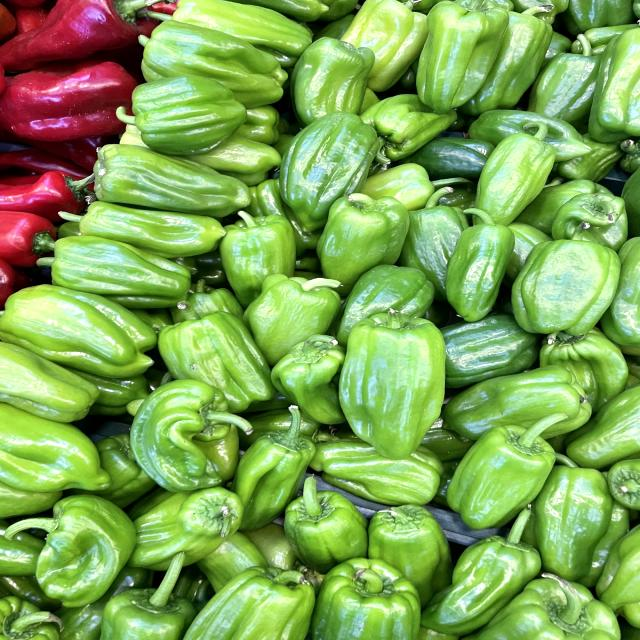bell pepper: (342, 299, 454, 462), (504, 207, 624, 347), (442, 413, 578, 531), (81, 135, 262, 221), (313, 178, 423, 291), (414, 0, 514, 116), (281, 27, 388, 129)
